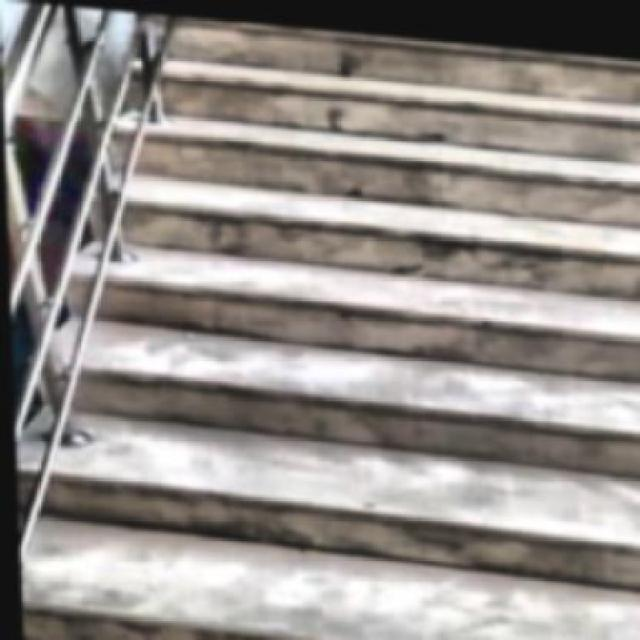stair: (34, 1, 638, 638)
